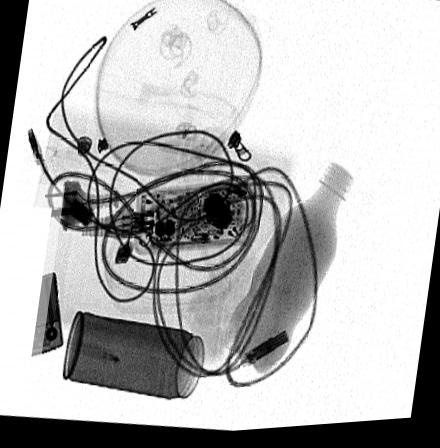Lighter: (20, 272, 62, 358)
